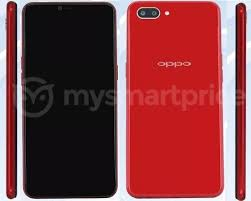oppo: (124, 1, 227, 198)
